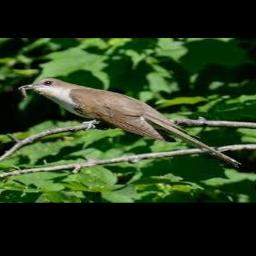Cuckoo: (19, 77, 242, 168)
